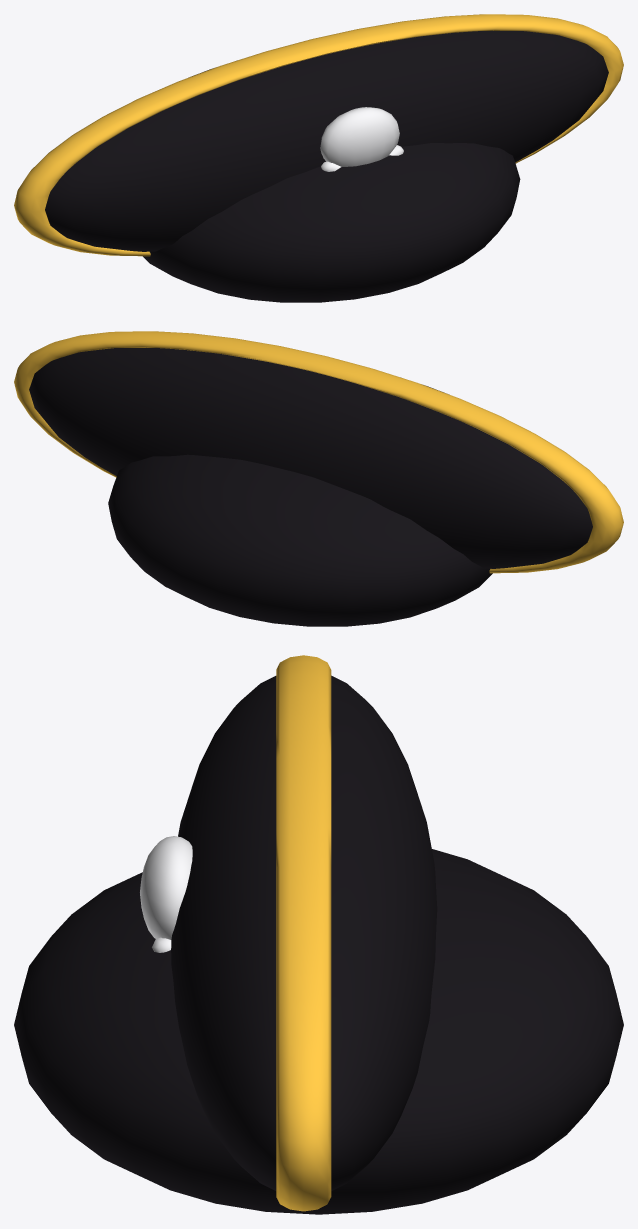
The model's file is costume_pirate.glb.
The picture shows the model from 3 angles, top to bottom: view 1: azimuth 30°, elevation 25°; view 2: azimuth 150°, elevation 25°; view 3: azimuth 270°, elevation 25°; orthographic projection. The views are drawn at different scales.
Visible parts, largest first — view 1: Costume_Pirate; view 2: Costume_Pirate; view 3: Costume_Pirate.
Boxes of the visible parts, x1=… form: Costume_Pirate: x1=14, y1=14, x2=623, y2=302; Costume_Pirate: x1=14, y1=331, x2=623, y2=626; Costume_Pirate: x1=14, y1=655, x2=623, y2=1214.
Bounding box in the file's own units: 0.9953 × 0.3602 × 0.544.
